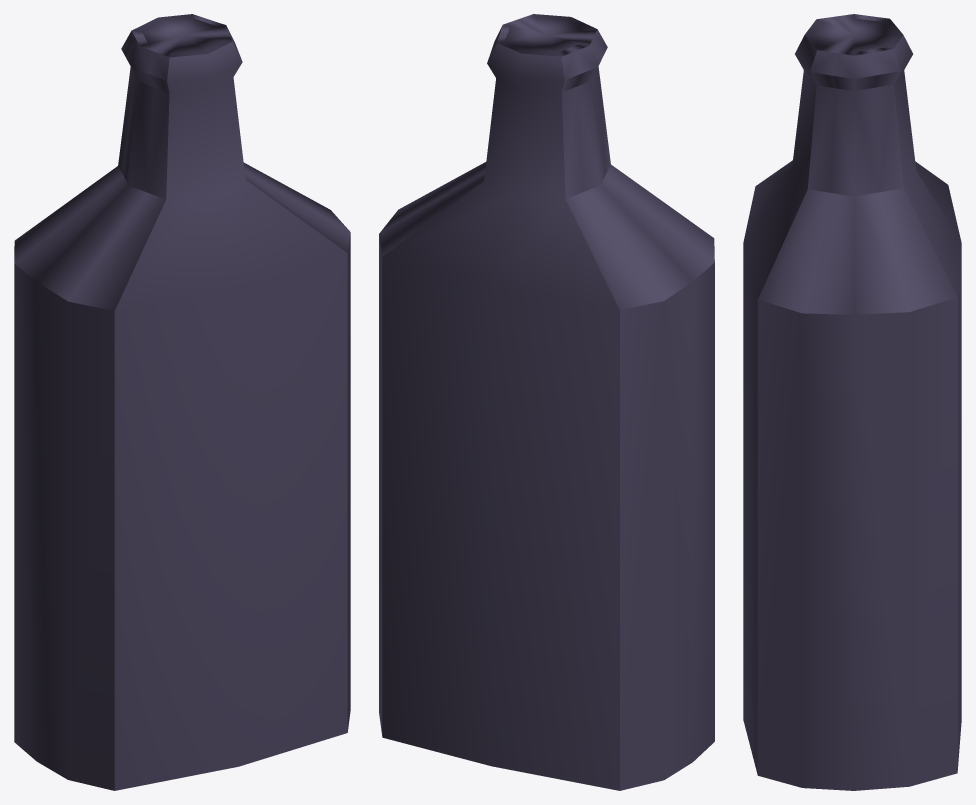
The model's file is flaske1_lilla.fbx.
The picture shows the model from 3 angles, left to right: view 1: azimuth 30°, elevation 25°; view 2: azimuth 150°, elevation 25°; view 3: azimuth 270°, elevation 25°; orthographic projection.
Parts seen in each view (by area): view 1: pCube14; view 2: pCube14; view 3: pCube14.
Boxes of the visible parts, x1,y1,x2,y2 form: pCube14: (14, 14, 350, 790); pCube14: (379, 14, 714, 790); pCube14: (743, 14, 961, 790).
Bounding box in the file's own units: 1.3 × 2.92 × 0.8435.
